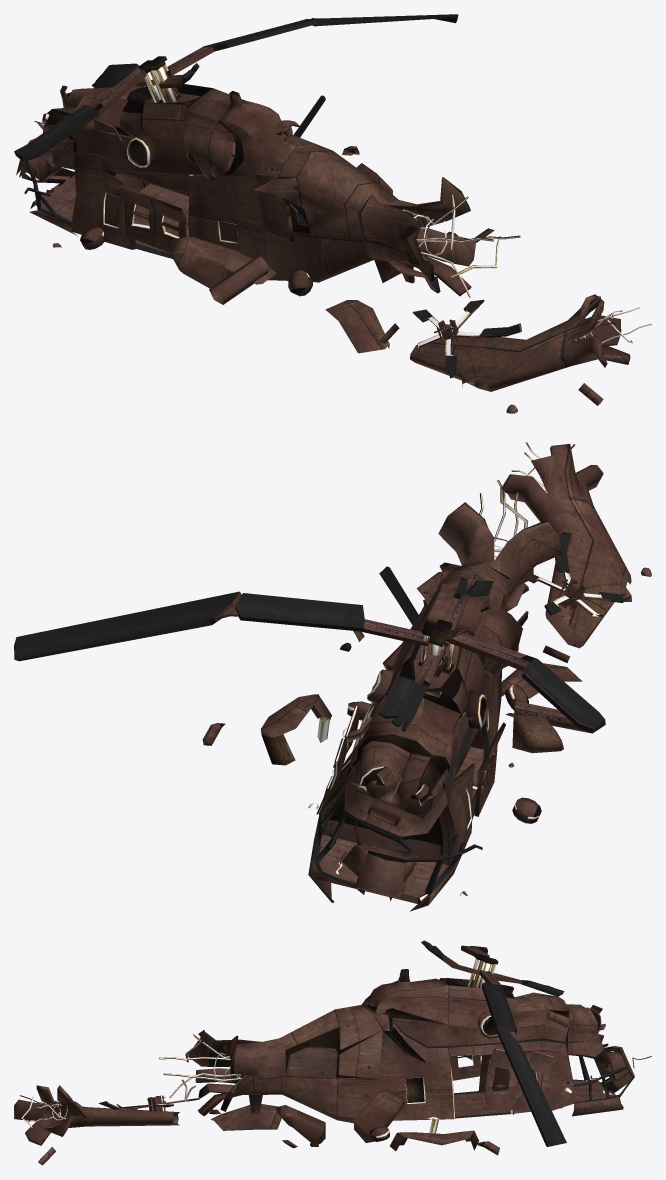
Rendered from Crushed_Helicopter_.fbx.
The picture shows the model from 3 angles, top to bottom: view 1: azimuth 30°, elevation 25°; view 2: azimuth 150°, elevation 25°; view 3: azimuth 270°, elevation 25°; orthographic projection. The views are drawn at different scales.
Visible parts, largest first — view 1: Model_Crashed_Helicopter; view 2: Model_Crashed_Helicopter; view 3: Model_Crashed_Helicopter.
Part boxes in pixels (bbox=[...]): Model_Crashed_Helicopter: bbox=[14, 14, 651, 413]; Model_Crashed_Helicopter: bbox=[14, 442, 651, 911]; Model_Crashed_Helicopter: bbox=[14, 940, 651, 1165].
Bounding box in the file's own units: 78.55 × 33.9 × 113.
1 material, 1 textured.
